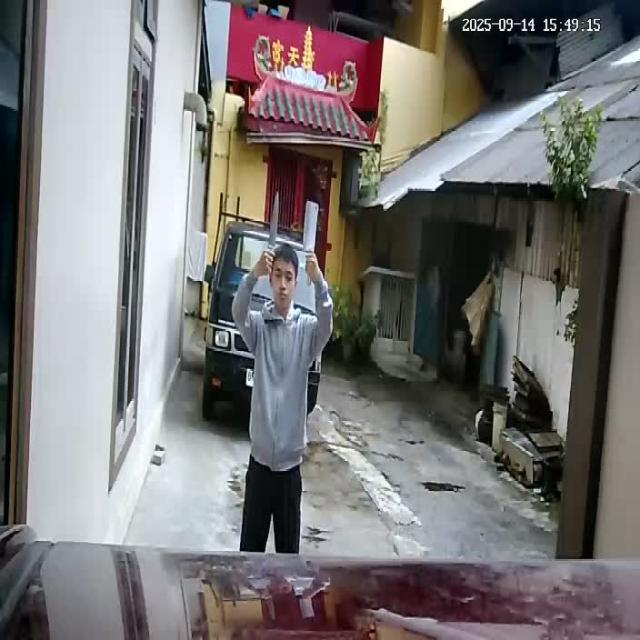senjata_tajam: (301, 200, 321, 253), (267, 192, 280, 250)
